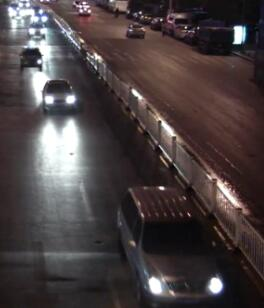car: (113, 183, 223, 307), (40, 76, 79, 113), (16, 45, 44, 73), (175, 17, 195, 41), (123, 19, 148, 38), (164, 8, 181, 33), (28, 10, 51, 25), (27, 22, 47, 38)
